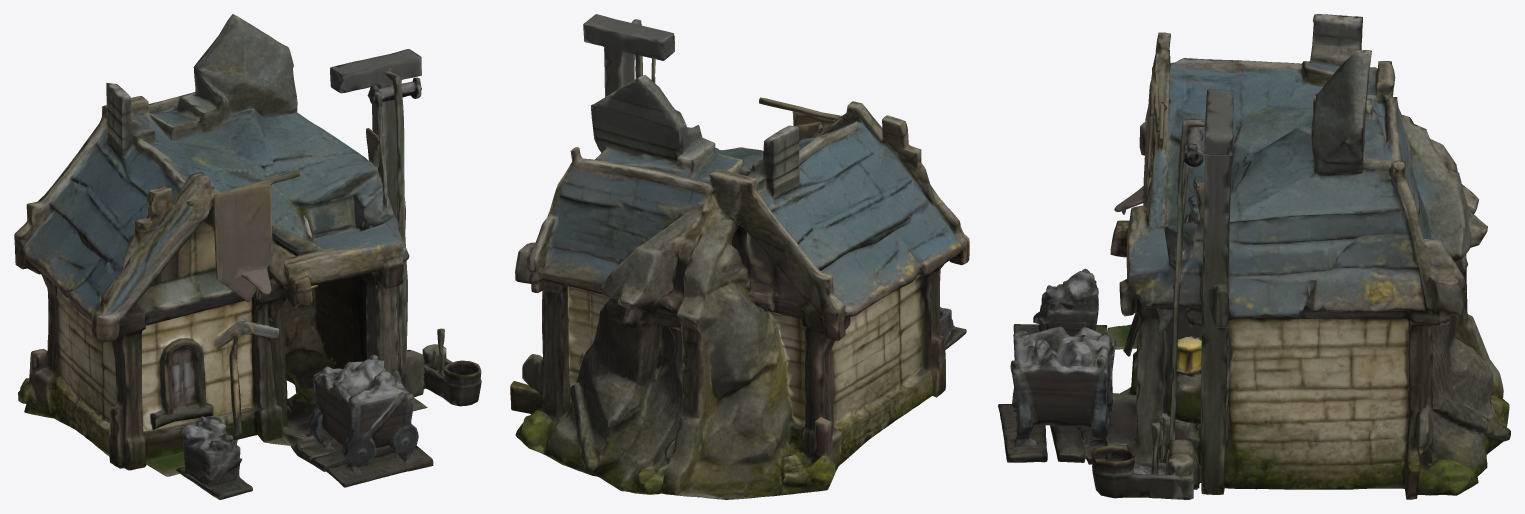
File: metal_mine.glb
3 views of the same model, side by side, from view 1: azimuth 30°, elevation 25°; view 2: azimuth 150°, elevation 25°; view 3: azimuth 270°, elevation 25° (orthographic). The views are drawn at different scales.
Visible parts, largest first — view 1: metal_mine_s7_fit; view 2: metal_mine_s7_fit; view 3: metal_mine_s7_fit.
Boxes of the visible parts, x1,y1,x2,y2 form: metal_mine_s7_fit: [14, 14, 481, 499]; metal_mine_s7_fit: [510, 14, 969, 499]; metal_mine_s7_fit: [998, 14, 1510, 499].
Bounding box in the file's own units: 3.39 × 3.18 × 3.62.
1 material, 1 textured.
